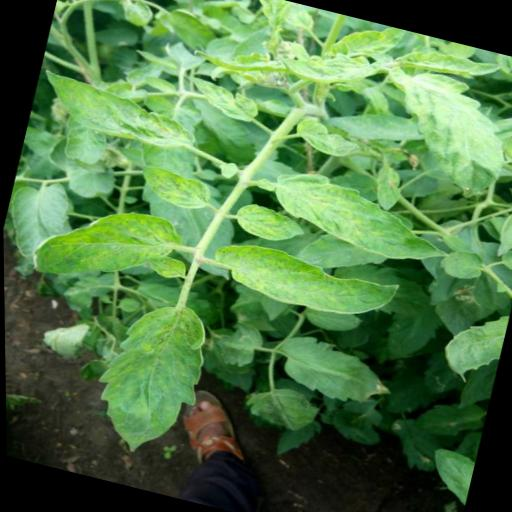Mosaic Virus: (80, 288, 216, 464), (262, 160, 465, 274), (360, 59, 512, 206), (22, 184, 184, 306), (204, 232, 399, 330), (31, 66, 205, 156), (326, 12, 405, 71), (135, 160, 217, 214), (227, 198, 309, 252)
